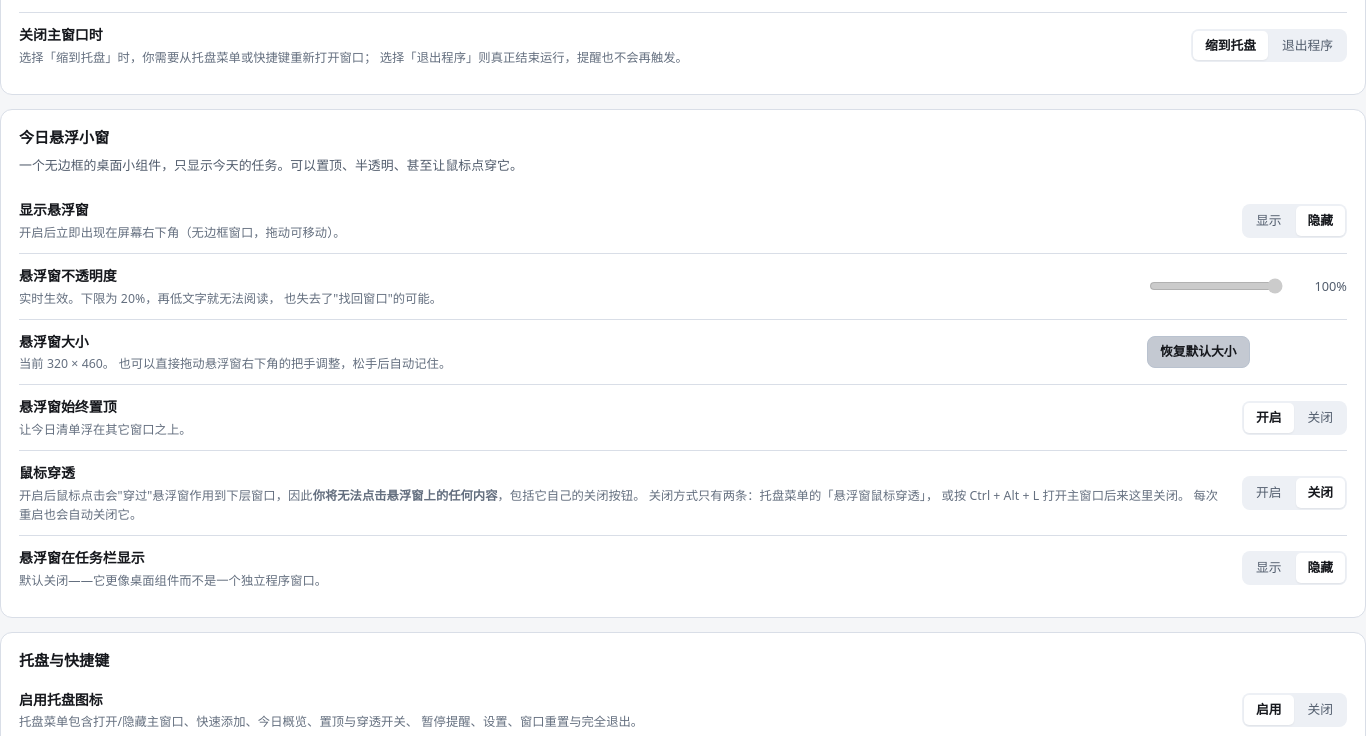
Scenario: 恢复默认大小使用后端默认值，并且只写一次窗口尺寸
(page scrolled)
Click the button "恢复默认大小".
click(1198, 352)  # box [1147,336,1250,368]
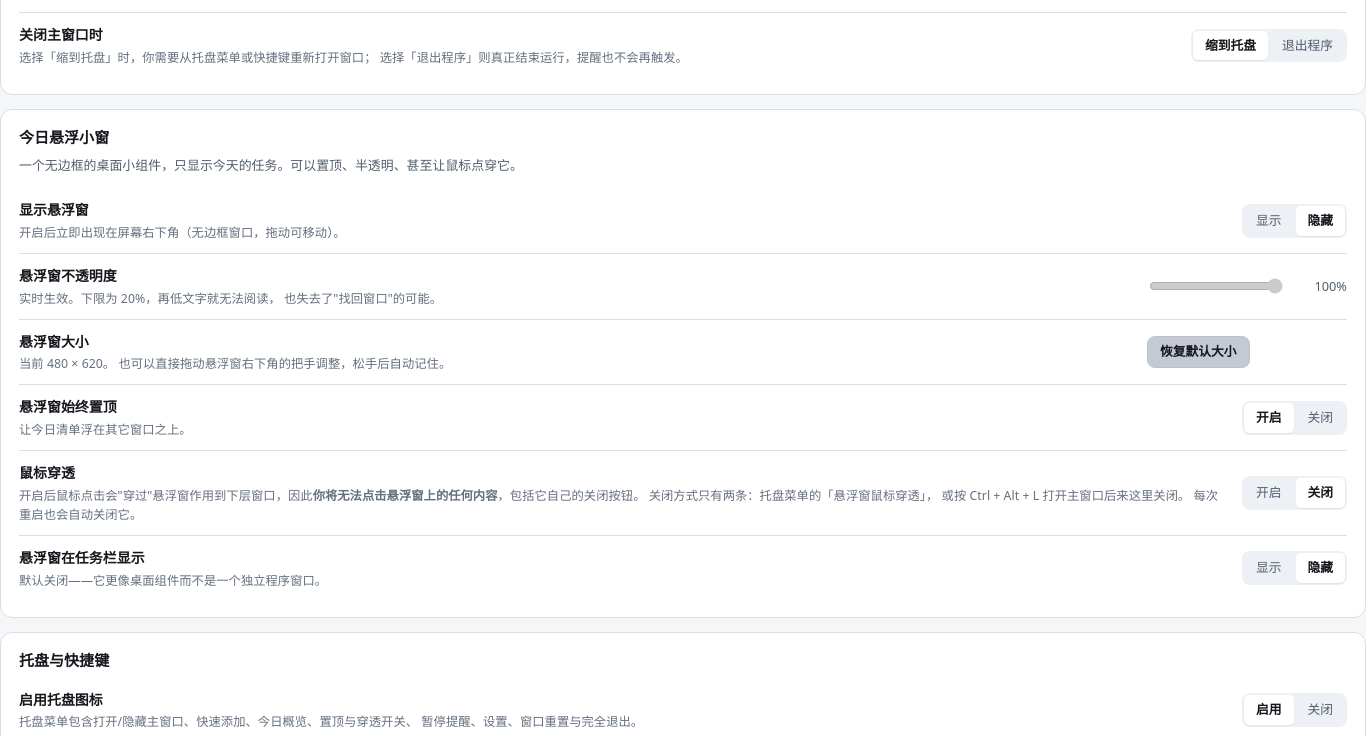
expect the text "当前 480 × 620" is shown: met, box [19,355,451,372]
